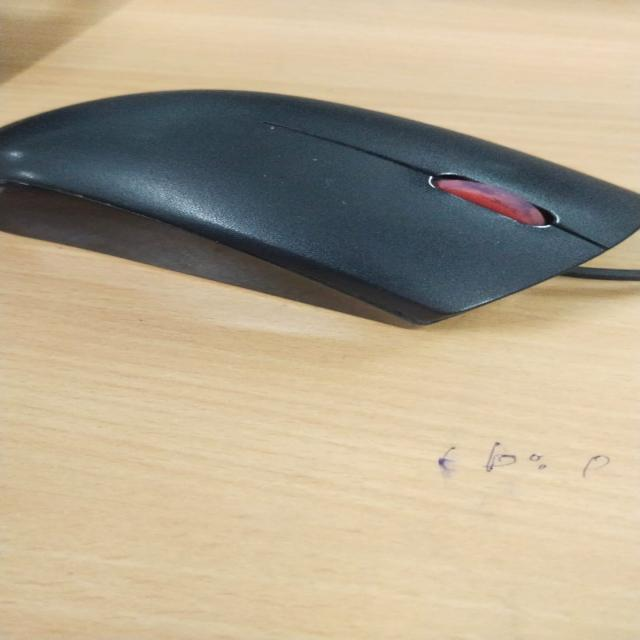mouse: (36, 42, 624, 432)
